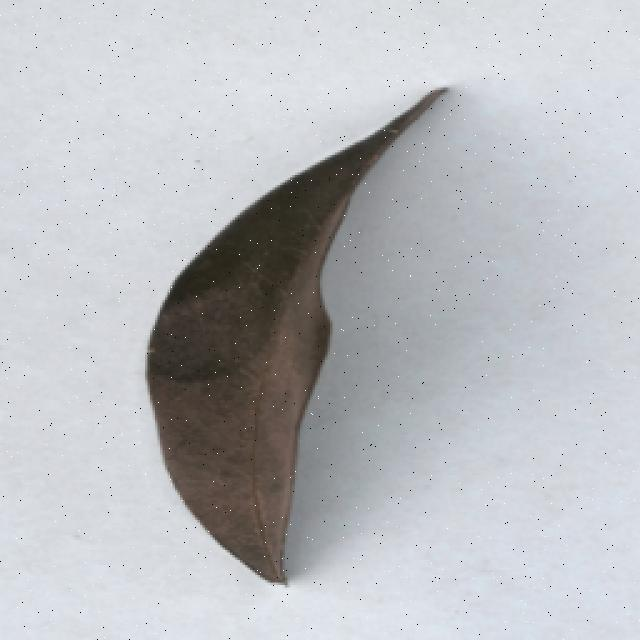healthy: (129, 73, 456, 599)
